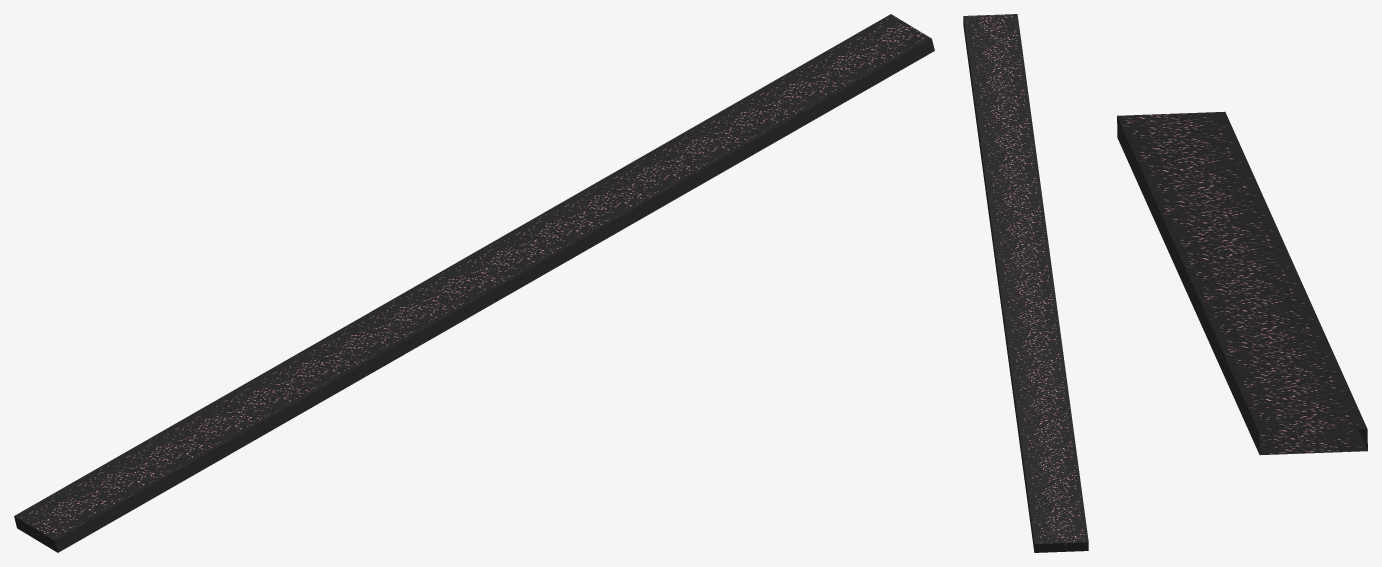
The model's file is OBJ_CourseSpring_testfloor4_7.fbx.
3 renders of one model, left to right at view 1: azimuth 90°, elevation 25°; view 2: azimuth 150°, elevation 25°; view 3: azimuth 330°, elevation 25°, orthographic. The views are drawn at different scales.
Visible parts, largest first — view 1: polySurface16; view 2: polySurface16; view 3: polySurface16.
Boxes of the visible parts, bbox=[...] form: polySurface16: bbox=[14, 14, 934, 552]; polySurface16: bbox=[963, 14, 1088, 552]; polySurface16: bbox=[1117, 111, 1367, 455].
Bounding box in the file's own units: 45.37 × 18.97 × 61.93.
1 material, 1 textured.
